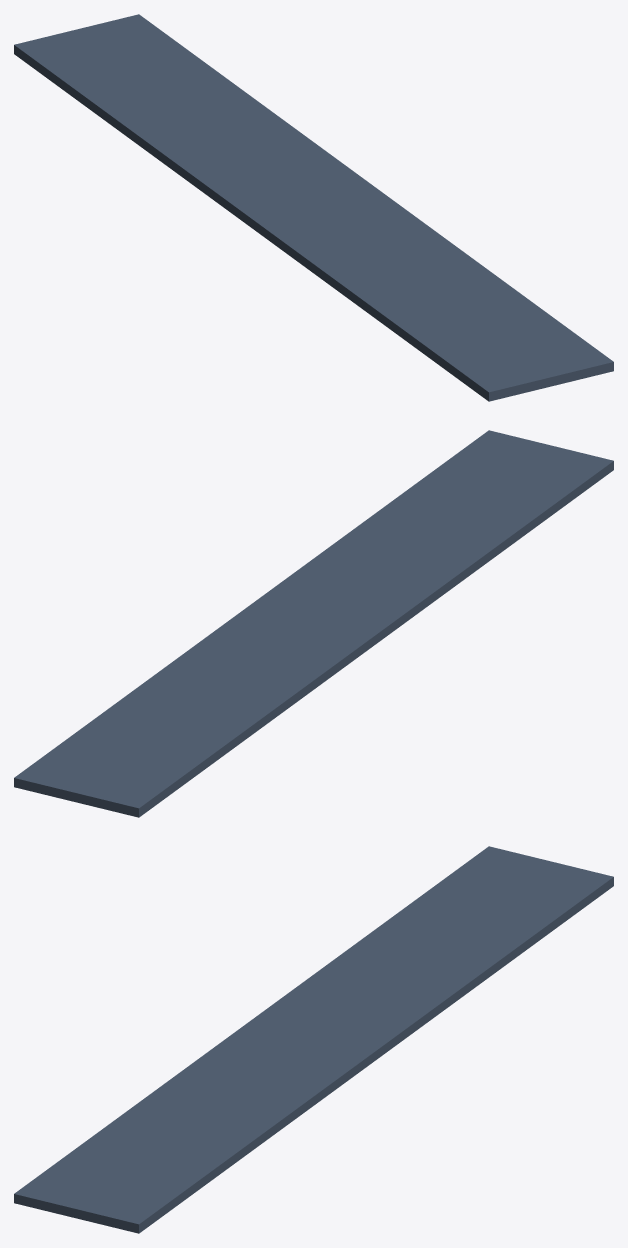
The model's file is floor_005_u_security_floor_01.obj.
The picture shows the model from 3 angles, top to bottom: view 1: azimuth 30°, elevation 25°; view 2: azimuth 150°, elevation 25°; view 3: azimuth 330°, elevation 25°; orthographic projection.
Parts seen in each view (by area): view 1: Floor_005_u_security_floor_01; view 2: Floor_005_u_security_floor_01; view 3: Floor_005_u_security_floor_01.
Boxes of the visible parts, left/top/right/bottom form: Floor_005_u_security_floor_01: left=14, top=14, right=613, bottom=401; Floor_005_u_security_floor_01: left=14, top=430, right=613, bottom=817; Floor_005_u_security_floor_01: left=14, top=846, right=613, bottom=1233.
Size of the model in its own units: 2.81 by 0.2 by 18.47.
